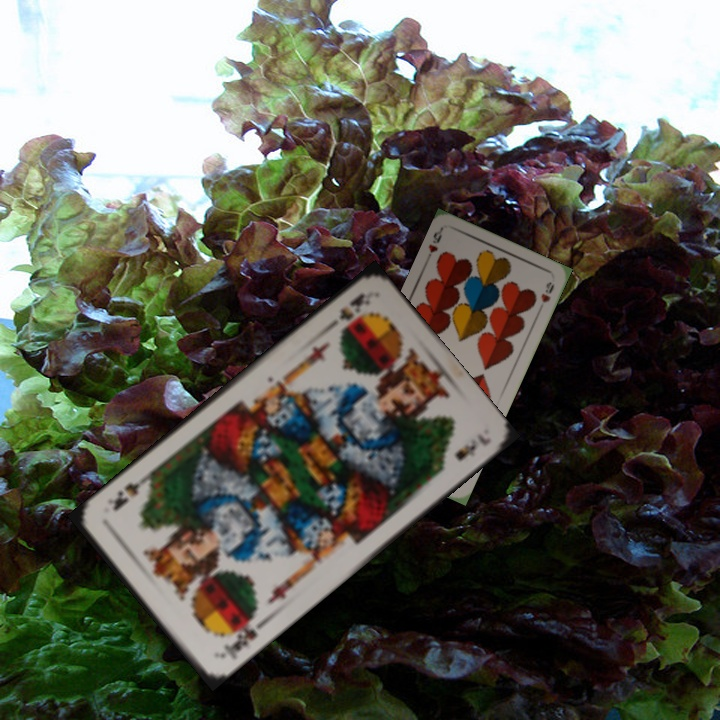H9: (422, 225, 445, 264)
SK: (213, 611, 260, 662), (335, 289, 373, 323)
